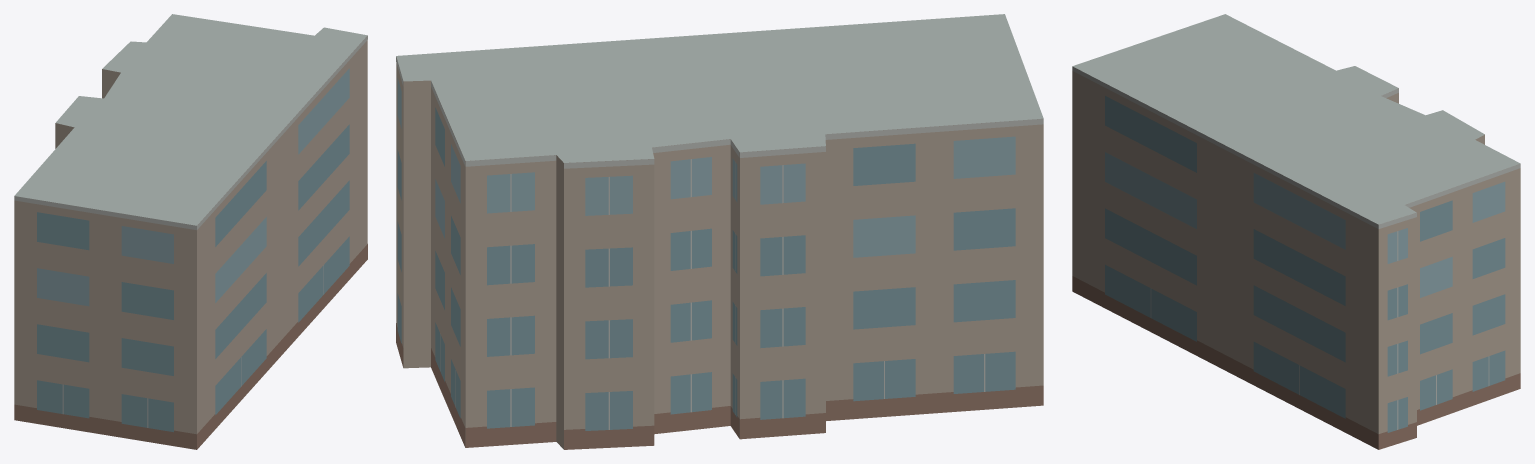
The model's file is survey-upis-32917002.glb.
The picture shows the model from 3 angles, left to right: view 1: azimuth 30°, elevation 25°; view 2: azimuth 150°, elevation 25°; view 3: azimuth 270°, elevation 25°; orthographic projection. The views are drawn at different scales.
Parts seen in each view (by area): view 1: survey-upis-32917002.tmp; view 2: survey-upis-32917002.tmp; view 3: survey-upis-32917002.tmp.
Boxes of the visible parts, box(x1,y1,x2,y2) form: survey-upis-32917002.tmp: box(14, 14, 367, 449); survey-upis-32917002.tmp: box(396, 14, 1043, 449); survey-upis-32917002.tmp: box(1072, 14, 1520, 449).
Size of the model in its own units: 24.49 by 12.2 by 22.02.
